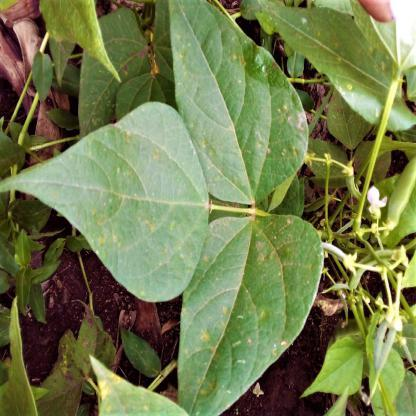Beans_Rust: (0, 104, 213, 297), (164, 0, 315, 194), (180, 212, 320, 416), (265, 4, 398, 119), (87, 350, 190, 416)
